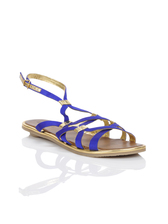shoes: (14, 67, 149, 160)
